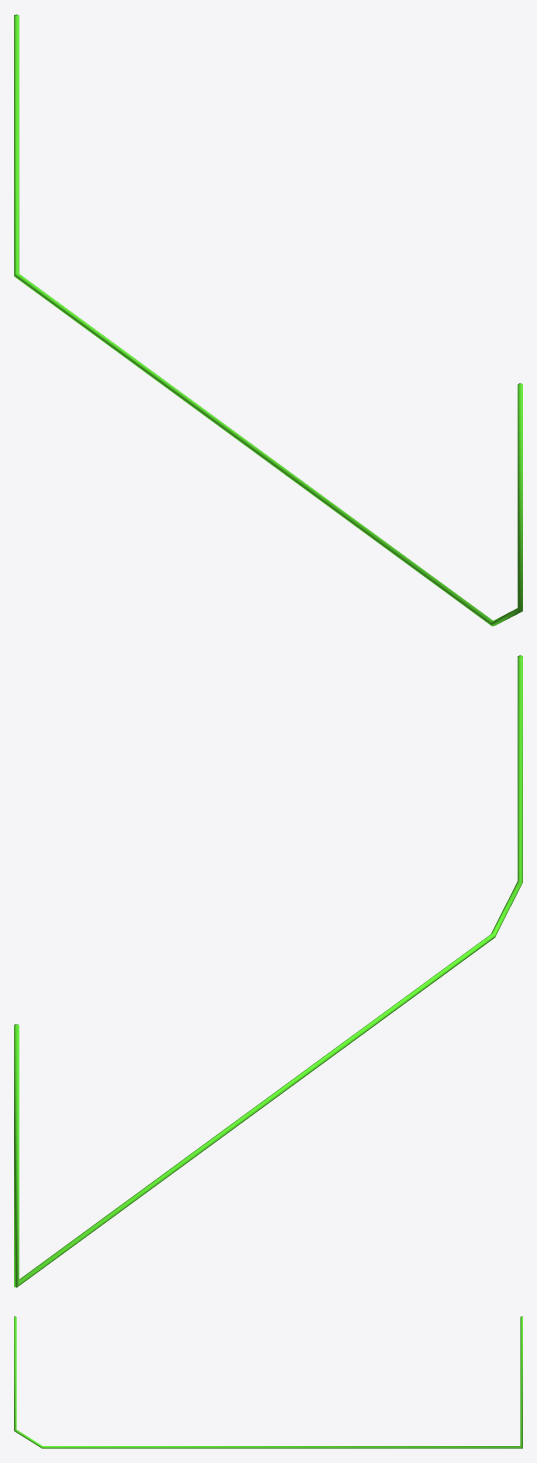
File: original-132.obj
The picture shows the model from 3 angles, top to bottom: view 1: azimuth 30°, elevation 25°; view 2: azimuth 150°, elevation 25°; view 3: azimuth 270°, elevation 25°; orthographic projection. The views are drawn at different scales.
Parts seen in each view (by area): view 1: Component_49_3/Component_49/mesh101/mesh101-geometry#mesh101-geo; view 2: Component_49_3/Component_49/mesh101/mesh101-geometry#mesh101-geo; view 3: Component_49_3/Component_49/mesh101/mesh101-geometry#mesh101-geo.
Boxes of the visible parts, <box> form: Component_49_3/Component_49/mesh101/mesh101-geometry#mesh101-geo: <box>14,14,522,626</box>; Component_49_3/Component_49/mesh101/mesh101-geometry#mesh101-geo: <box>14,655,522,1287</box>; Component_49_3/Component_49/mesh101/mesh101-geometry#mesh101-geo: <box>14,1316,522,1448</box>.
Bounding box in the file's own units: 0.00421 × 0.2249 × 0.7895.
